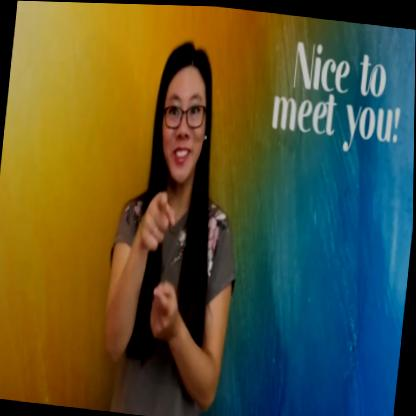NiceToMeetYou: (123, 179, 224, 359)
